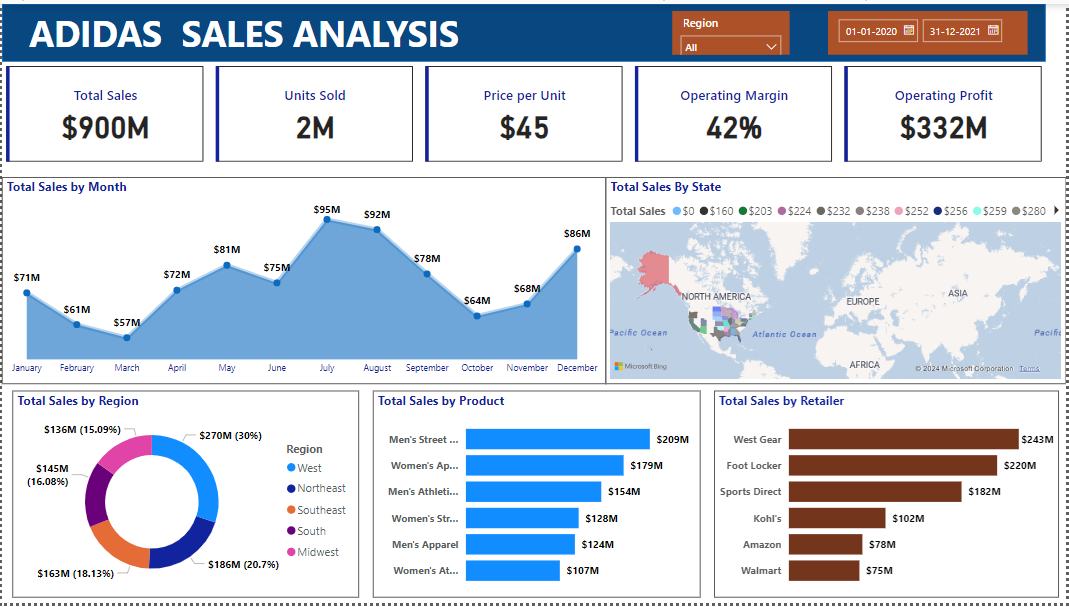

The dashboard page shown, as its layout file describes it:
{"tool":"powerbi","page":{"name":"Page 1","canvas":[1280,720],"ordinal":0},"visuals":[{"type":"shape","box":[0,0,1255,70],"z":0},{"type":"textbox","box":[27.5,0,540,70],"z":1000},{"type":"cardVisual","fields":{"Data":["Sum(Data Sales Adidas.Total Sales)","Sum(Data Sales Adidas.Units Sold)","Avg(Data Sales Adidas.Price per Unit)","Avg(Data Sales Adidas.Operating Margin)","Sum(Data Sales Adidas.Operating Profit)"]},"box":[0,70,1255,125],"z":2000},{"type":"areaChart","title":"Total Sales by Month","fields":{"Category":["Data Sales Adidas.Invoice Date.Variation.Date Hierarchy.Month"],"Y":["Sum(Data Sales Adidas.Total Sales)"]},"box":[0,208.3,726,248.3],"z":3000},{"type":"filledMap","title":"Total Sales By State","fields":{"Category":["Data Sales Adidas.State"],"Series":["Data Sales Adidas.Total Sales"]},"box":[726,208.3,553.5,248.3],"z":4000},{"type":"donutChart","title":"Total Sales by Region","fields":{"Category":["Data Sales Adidas.Region"],"Y":["Sum(Data Sales Adidas.Total Sales)"]},"box":[12.6,465.1,416.7,248.3],"z":5000},{"type":"barChart","title":"Total Sales by Product","fields":{"Category":["Data Sales Adidas.Product"],"Y":["Sum(Data Sales Adidas.Total Sales)"]},"box":[446.1,465.1,393.5,248.3],"z":6000},{"type":"barChart","title":"Total Sales by Retailer","fields":{"Y":["Sum(Data Sales Adidas.Total Sales)"],"Category":["Data Sales Adidas.Retailer"]},"box":[856.5,465.1,414.6,248.3],"z":7000},{"type":"slicer","fields":{"Values":["Data Sales Adidas.Region"]},"box":[806,8.4,141,52.6],"z":8000},{"type":"slicer","fields":{"Values":["Data Sales Adidas.Invoice Date"]},"box":[993.3,8.4,239.9,52.6],"z":9000}]}

Visuals, with their boxes in screenshot pixels (x1, y1, x2, y2), scaled from the page's 1280x720 canvas onto the 1069x607 screenshot:
shape: {"x1": 0, "y1": 0, "x2": 1048, "y2": 59}
textbox: {"x1": 23, "y1": 0, "x2": 474, "y2": 59}
cardVisual - Sum(Data Sales Adidas.Total Sales) x Sum(Data Sales Adidas.Units Sold): {"x1": 0, "y1": 59, "x2": 1048, "y2": 164}
"Total Sales by Month" areaChart: {"x1": 0, "y1": 176, "x2": 606, "y2": 385}
"Total Sales By State" filledMap: {"x1": 606, "y1": 176, "x2": 1068, "y2": 385}
"Total Sales by Region" donutChart: {"x1": 11, "y1": 392, "x2": 359, "y2": 601}
"Total Sales by Product" barChart: {"x1": 373, "y1": 392, "x2": 701, "y2": 601}
"Total Sales by Retailer" barChart: {"x1": 715, "y1": 392, "x2": 1062, "y2": 601}
slicer - Data Sales Adidas.Region: {"x1": 673, "y1": 7, "x2": 791, "y2": 51}
slicer - Data Sales Adidas.Invoice Date: {"x1": 830, "y1": 7, "x2": 1030, "y2": 51}
